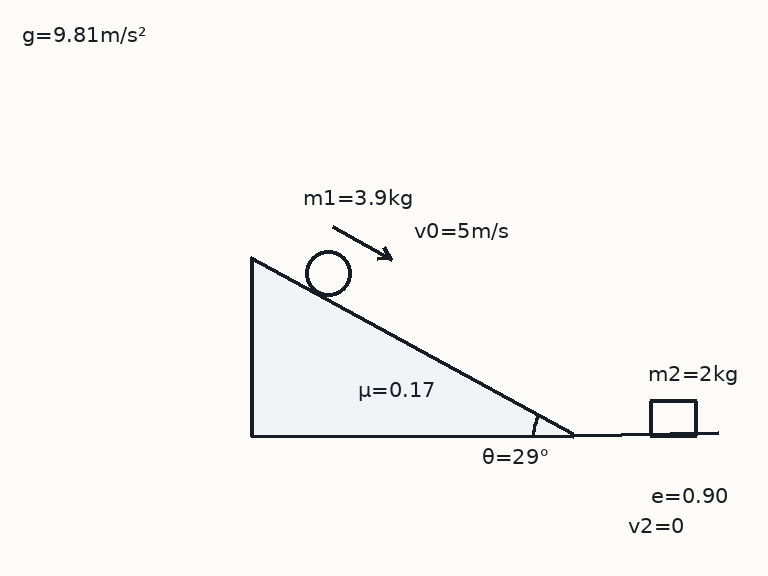ball: (303, 248, 353, 298)
block: (648, 399, 698, 437)
ramp: (249, 255, 575, 437)
